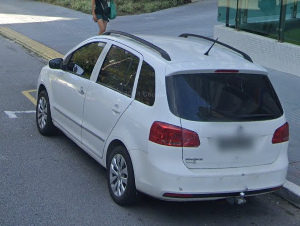car: (34, 30, 290, 210)
